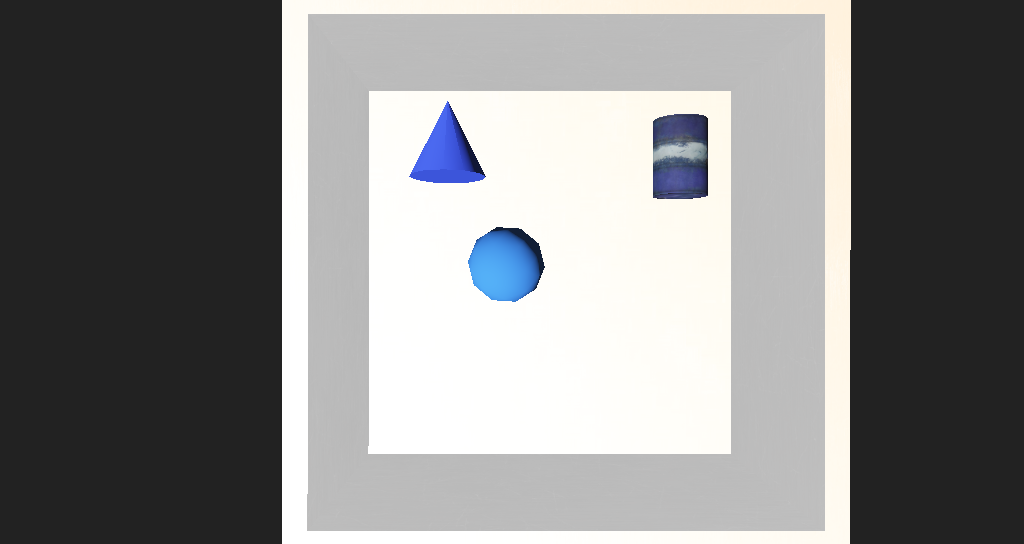cone: (586, 177, 640, 224)
cylinder: (384, 165, 451, 217)
sphere: (441, 239, 502, 286)
